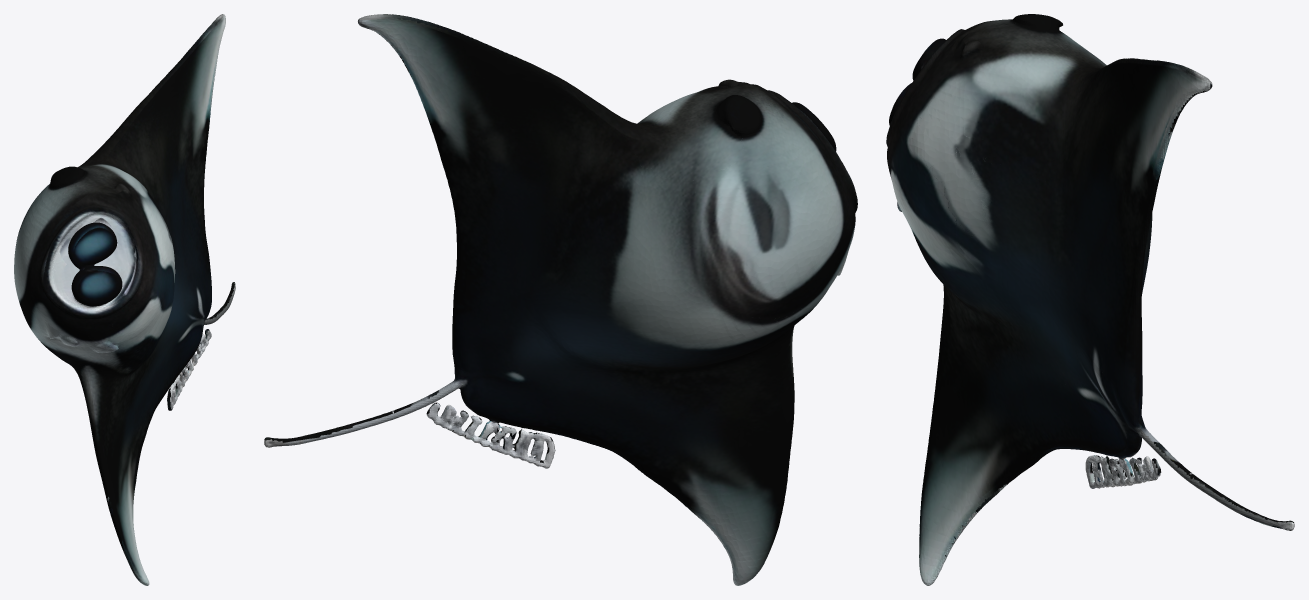
The model's file is paint_mesh_Manta_Ray.glb.
The picture shows the model from 3 angles, left to right: view 1: azimuth 30°, elevation 25°; view 2: azimuth 150°, elevation 25°; view 3: azimuth 270°, elevation 25°; orthographic projection. The views are drawn at different scales.
Parts seen in each view (by area): view 1: world; view 2: world; view 3: world.
Part boxes in pixels (x1=…): world: x1=14, y1=14, x2=235, y2=585; world: x1=264, y1=14, x2=857, y2=585; world: x1=886, y1=14, x2=1294, y2=585.
Size of the model in its own units: 1.47 by 1.99 by 1.18.
Materials: 1 (1 with a texture image).
